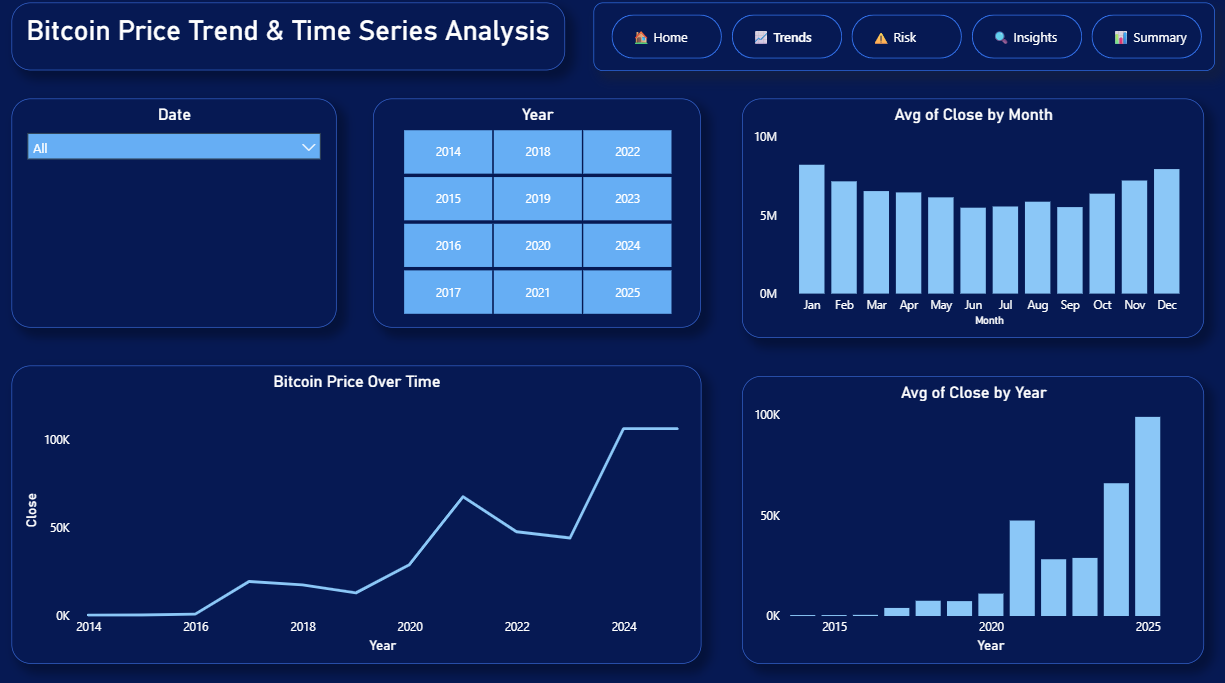

Layout of this report page (visuals, bound fields, positions):
{"tool":"powerbi","page":{"name":"📈 Trends","canvas":[1280,720],"ordinal":1},"visuals":[{"type":"slicer","title":"Date","fields":{"Values":["bitcoin_final.Date"]},"box":[13.8,110.8,338.5,238.5],"z":0},{"type":"slicer","title":"Year","fields":{"Values":["bitcoin_final.Year"]},"box":[390.8,110.8,341.5,238.5],"z":1000},{"type":"lineChart","title":"Bitcoin Price Over Time","fields":{"Category":["bitcoin_final.Date.Variation.Date Hierarchy.Year","bitcoin_final.Date.Variation.Date Hierarchy.Quarter","bitcoin_final.Date.Variation.Date Hierarchy.Month","bitcoin_final.Date.Variation.Date Hierarchy.Day"],"Y":["Max(bitcoin_final.Close)"]},"box":[13.8,389.2,718.5,310.8],"z":2000},{"type":"columnChart","title":"Avg of Close by Month","fields":{"Category":["bitcoin_final.Month"],"Y":["Sum(bitcoin_final.Close)"]},"box":[775.4,110.8,481.5,249.2],"z":3000},{"type":"columnChart","title":"Avg of Close by Year","fields":{"Y":["Avg(bitcoin_final.Close)"],"Category":["bitcoin_final.Year"]},"box":[775.4,400,481.5,300],"z":4000},{"type":"textbox","box":[13.8,10.8,576.9,70.8],"z":5000},{"type":"shape","box":[620.6,11.1,647.6,71.4],"z":6000},{"type":"pageNavigator","box":[639.7,23.8,617.5,46],"z":7000}]}

Visuals, with their boxes in screenshot pixels (x1, y1, x2, y2), scaled from the page's 1280x720 canvas onto the 1225x683 screenshot:
"Date" slicer: region(13, 105, 337, 331)
"Year" slicer: region(374, 105, 701, 331)
"Bitcoin Price Over Time" lineChart: region(13, 369, 701, 664)
"Avg of Close by Month" columnChart: region(742, 105, 1203, 342)
"Avg of Close by Year" columnChart: region(742, 379, 1203, 664)
textbox: region(13, 10, 565, 77)
shape: region(594, 11, 1214, 78)
pageNavigator: region(612, 23, 1203, 66)
